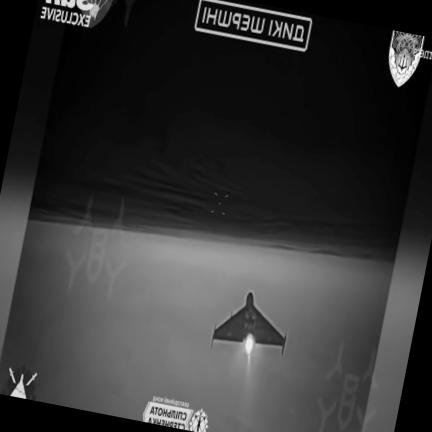Shahed: (210, 292, 286, 356)
